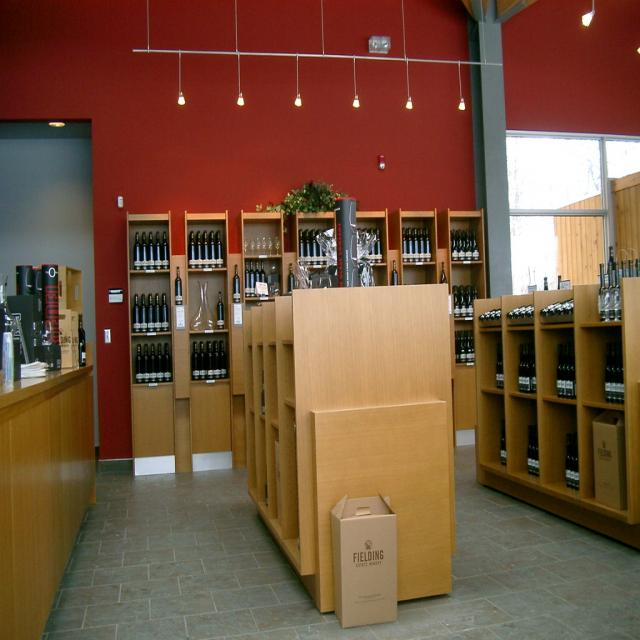Box: (326, 478, 409, 614), (593, 415, 637, 508)
